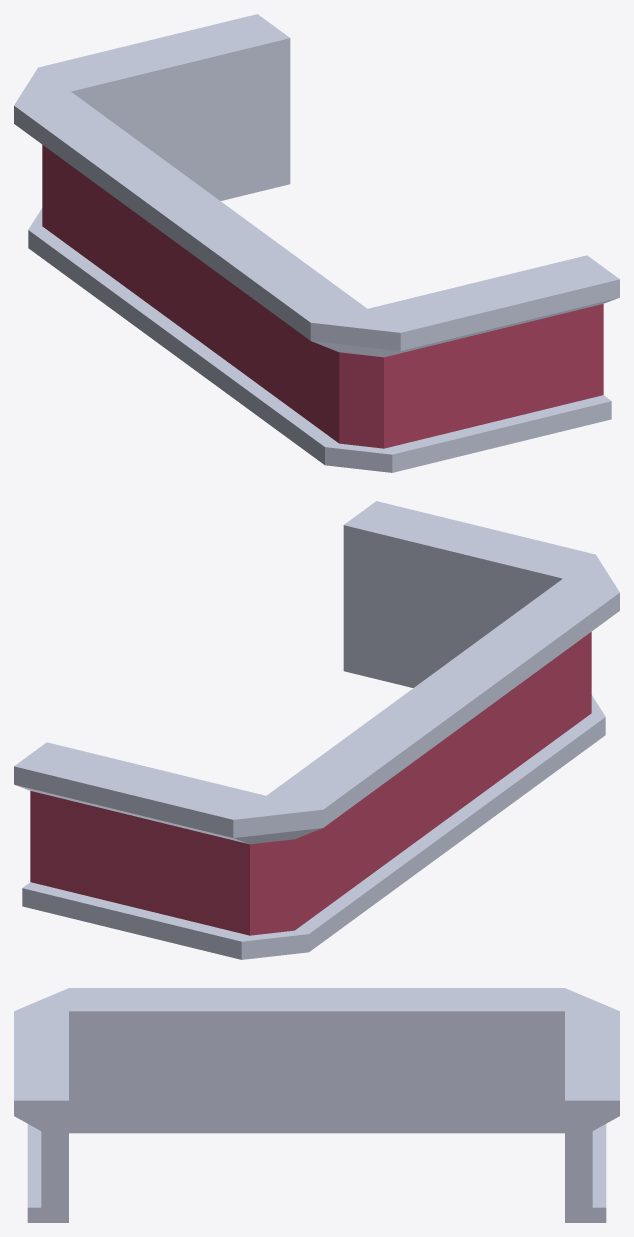
3 views of the same model, one above another, from view 1: azimuth 30°, elevation 25°; view 2: azimuth 150°, elevation 25°; view 3: azimuth 270°, elevation 25° (orthographic). The views are drawn at different scales.
Visible parts, largest first — view 1: object_023; view 2: object_023; view 3: object_023.
Part boxes in pixels (x1,y1,x2,y2): object_023: (14, 14, 619, 472); object_023: (14, 501, 619, 959); object_023: (14, 988, 619, 1222).
Bounding box in the file's own units: 4.61 × 2.33 × 10.48.
